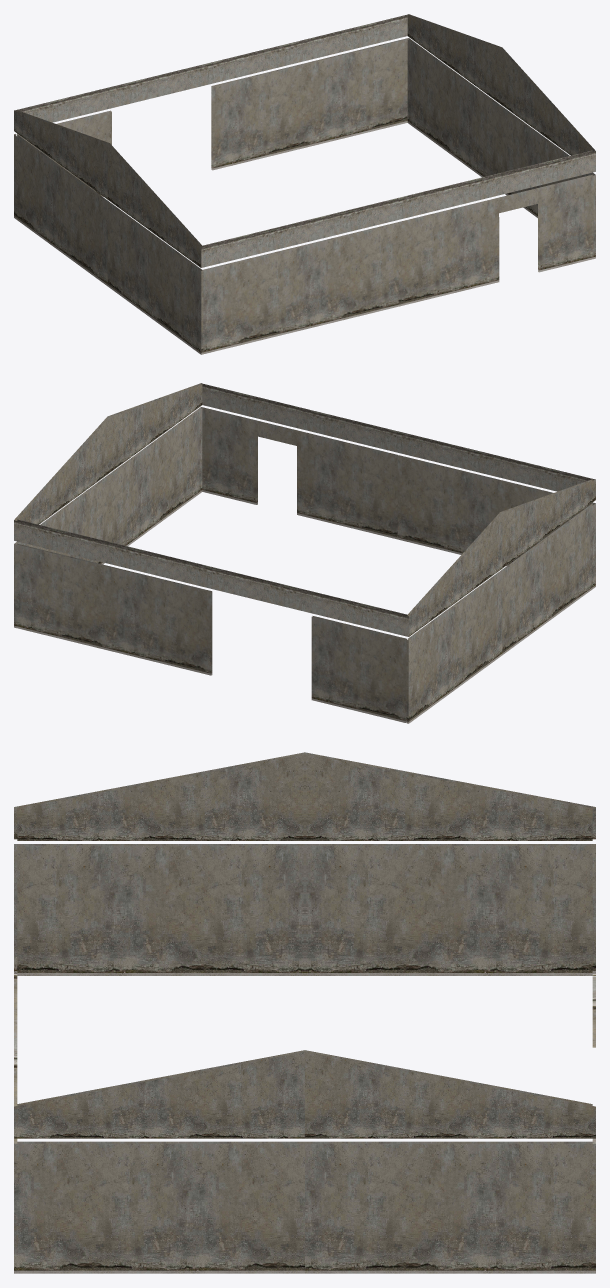
The model's file is stuccobuildingb_id_4_wallstuccoa_dm_0_lev1.glb.
3 renders of one model, top to bottom at view 1: azimuth 30°, elevation 25°; view 2: azimuth 150°, elevation 25°; view 3: azimuth 270°, elevation 25°, orthographic. The views are drawn at different scales.
Visible parts, largest first — view 1: stuccobuildingb_id_4_wallstuccoa_dm_0_lev1; view 2: stuccobuildingb_id_4_wallstuccoa_dm_0_lev1; view 3: stuccobuildingb_id_4_wallstuccoa_dm_0_lev1.
Part boxes in pixels (left/top/right/bottom): stuccobuildingb_id_4_wallstuccoa_dm_0_lev1: left=14, top=14, right=595, bottom=354; stuccobuildingb_id_4_wallstuccoa_dm_0_lev1: left=14, top=383, right=595, bottom=723; stuccobuildingb_id_4_wallstuccoa_dm_0_lev1: left=14, top=752, right=595, bottom=1273.
Bounding box in the file's own units: 7.92 × 2.73 × 6.5.
Materials: 1 (1 with a texture image).
